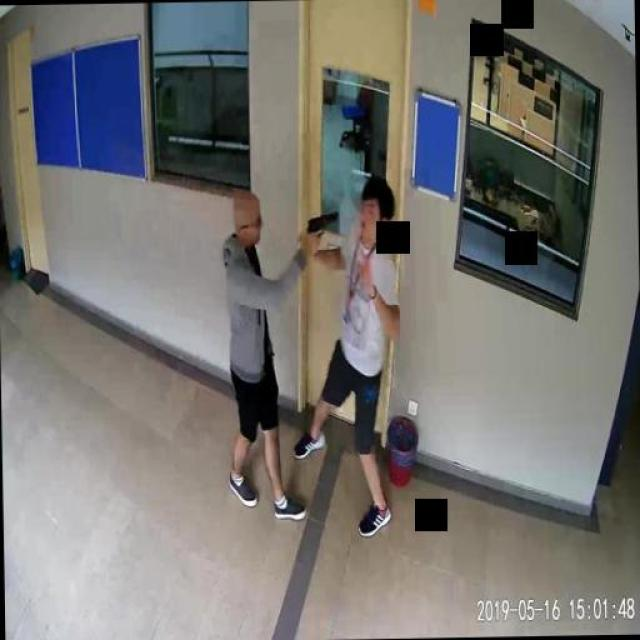gun: (306, 209, 338, 249)
